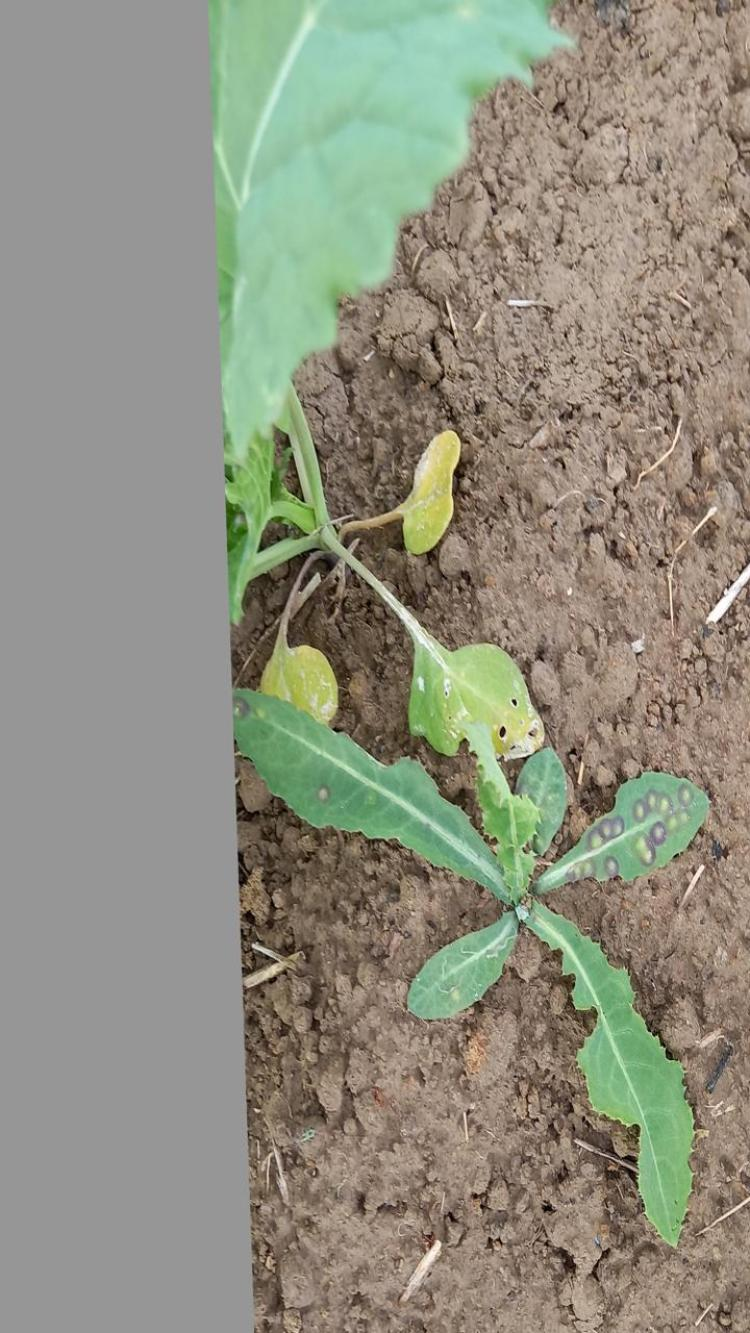bodyak: (231, 689, 713, 1250)
